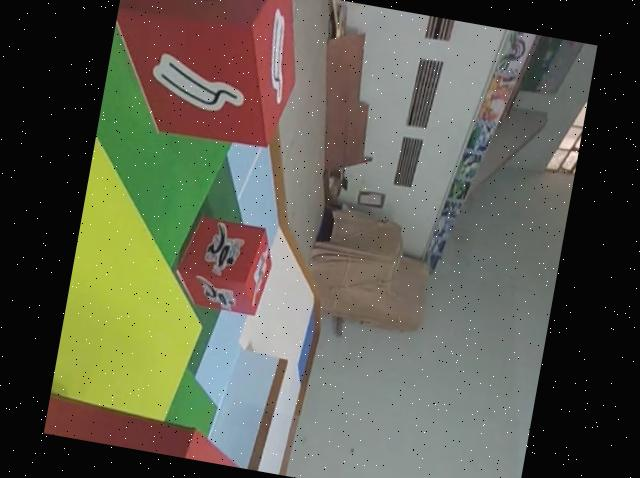R1: (169, 212, 278, 317)
R2 Fake: (43, 388, 251, 469)
R2 Real: (98, 0, 314, 152)
